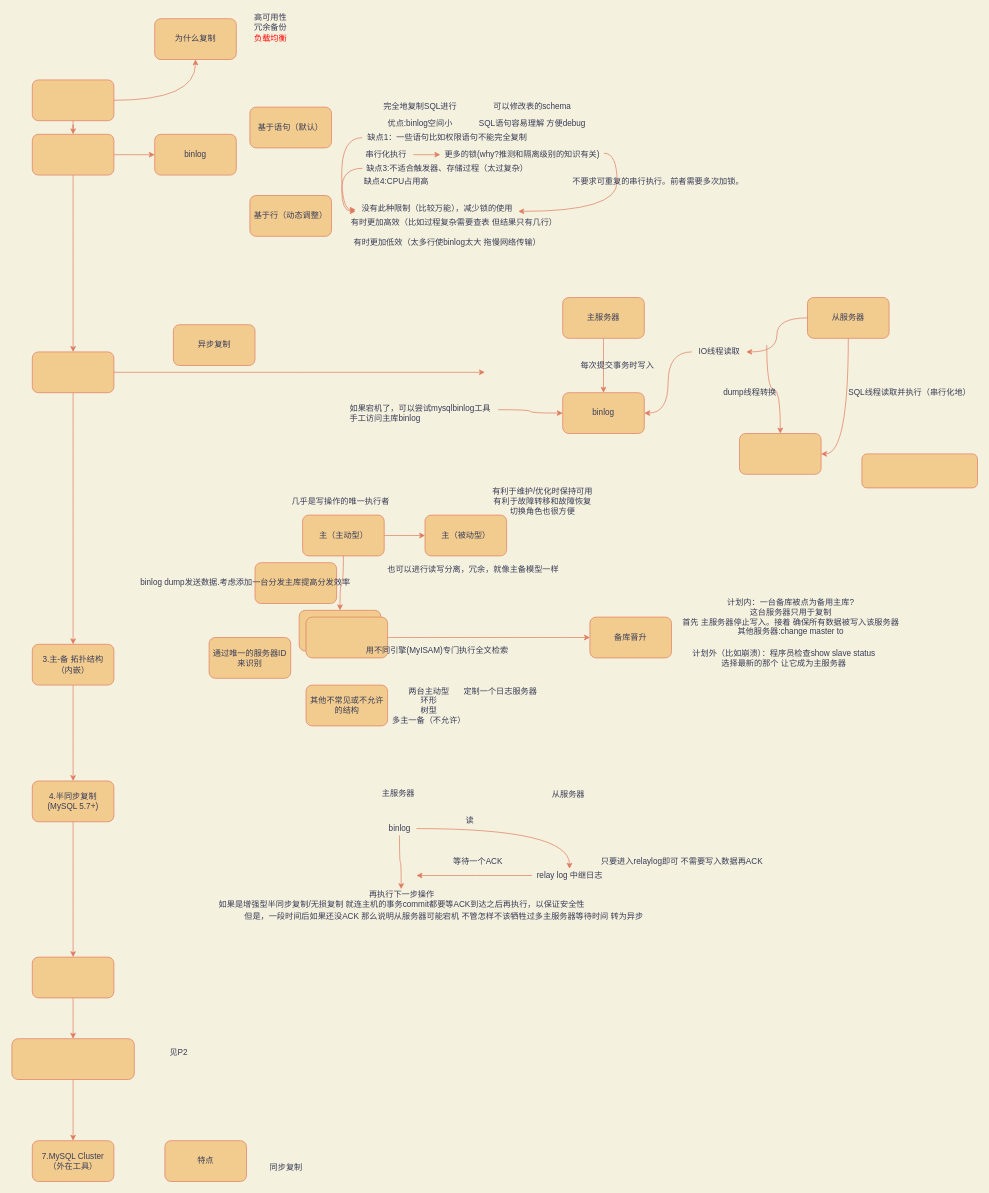
Some shapes in this 989 by 1193 pixel diagram are drawn without their labels. The shapes that lost their labels are listed below. From the top down, each one's box as (x1, y1, x2, y2) in pixels, then its label:
(32, 79, 114, 121): MySQL复制
(32, 134, 114, 175): 1.载体（主服务器向备服务器发送的信息）
(32, 351, 114, 393): 2.一个主服务器向一个备服务器发送备份的流程 (内嵌)
(739, 433, 821, 474): 中继日志
(861, 453, 978, 488): (异步)(书)
(305, 616, 388, 658): 备库
(32, 956, 114, 998): 5.多线程复制(MySQL 5.7)
(11, 1038, 134, 1080): 6.组复制 MySQL Group Replication (MySQL 8.0+) 插件
